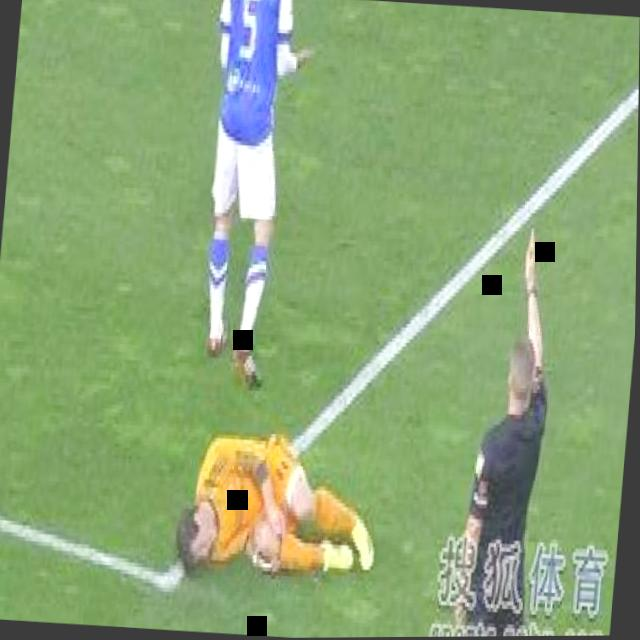Fall-Detected: (159, 396, 395, 595)
